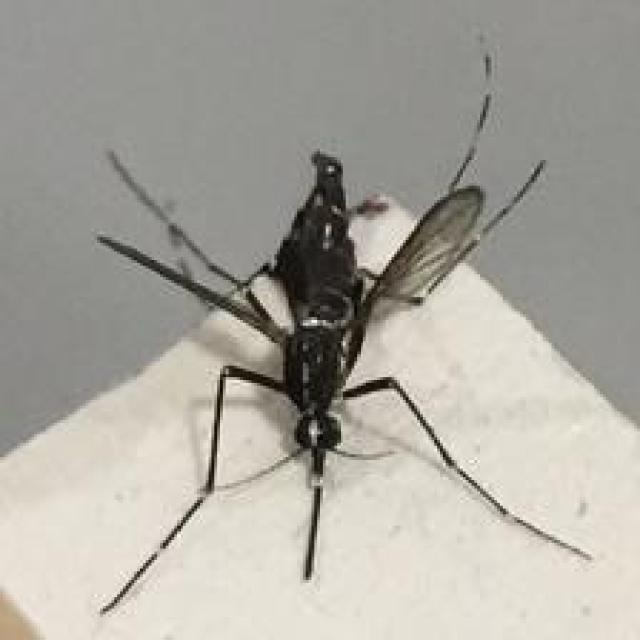Aedes albopictus: (91, 47, 594, 616)
